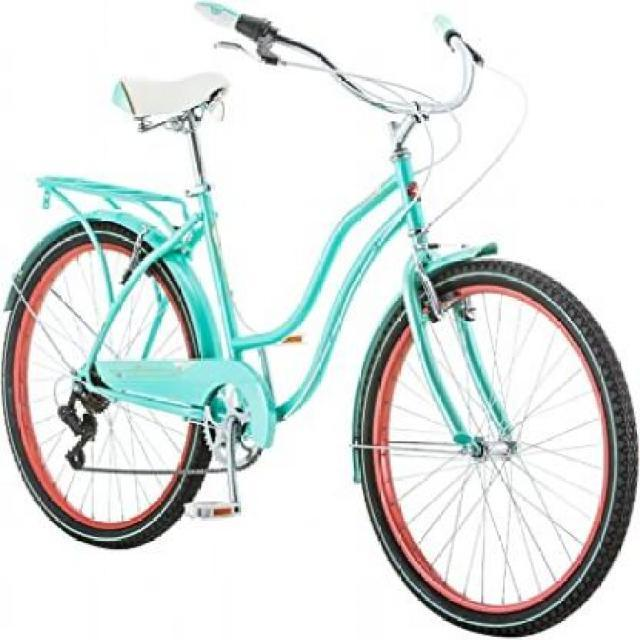bicycle: (1, 2, 640, 640)
